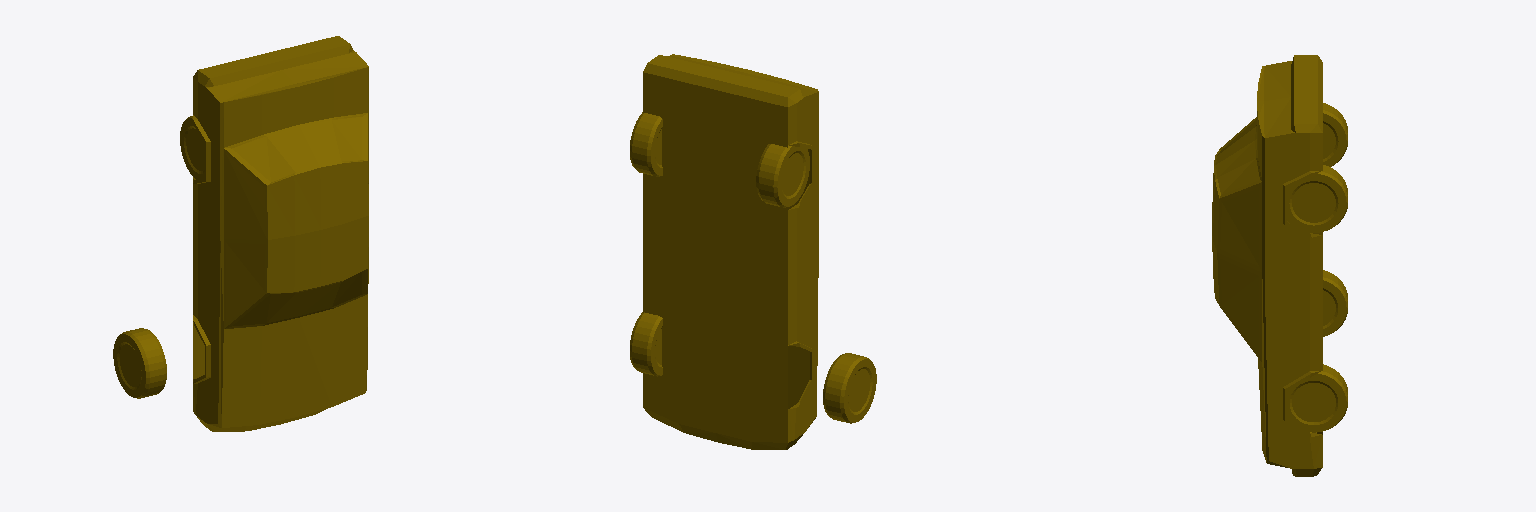
File: LlantaNueva.obj
3 renders of one model, left to right at view 1: azimuth 30°, elevation 25°; view 2: azimuth 150°, elevation 25°; view 3: azimuth 270°, elevation 25°, orthographic.
Parts seen in each view (by area): view 1: Car_Cube; view 2: Car_Cube; view 3: Car_Cube.
Part boxes in pixels (left/top/right/bottom): Car_Cube: left=113, top=36, right=368, bottom=431; Car_Cube: left=630, top=54, right=876, bottom=449; Car_Cube: left=1212, top=55, right=1347, bottom=476.
Size of the model in its own units: 2.94 by 4.67 by 1.59.